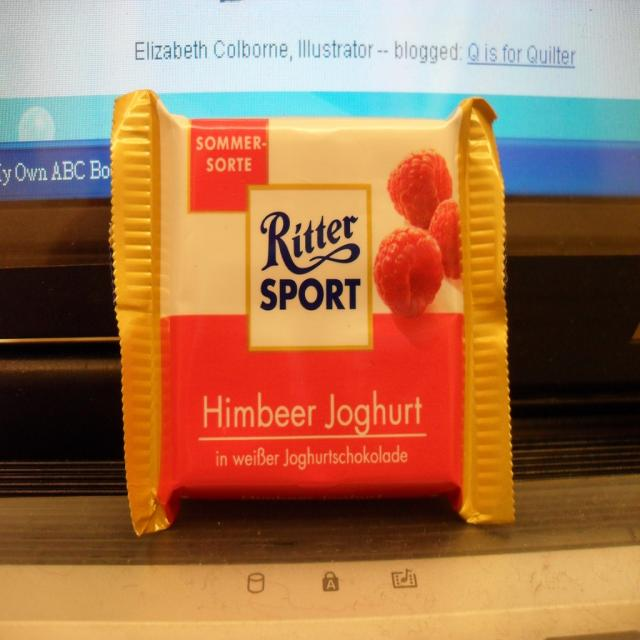rittersport: (246, 185, 375, 354)
